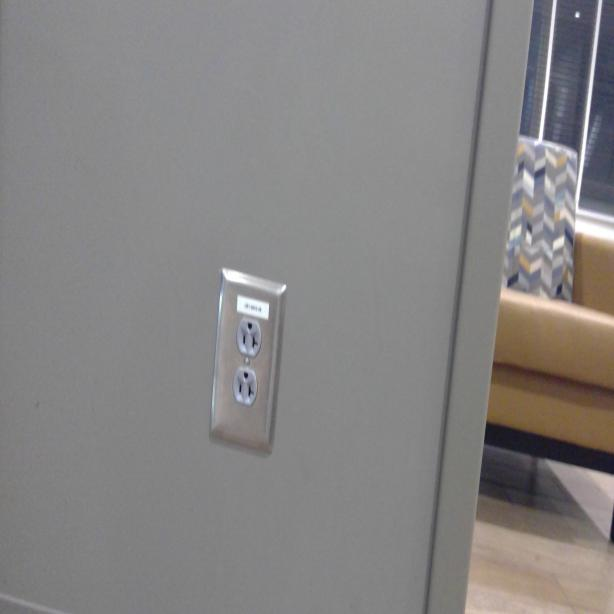typeb: (237, 319, 262, 358), (234, 368, 257, 407)
